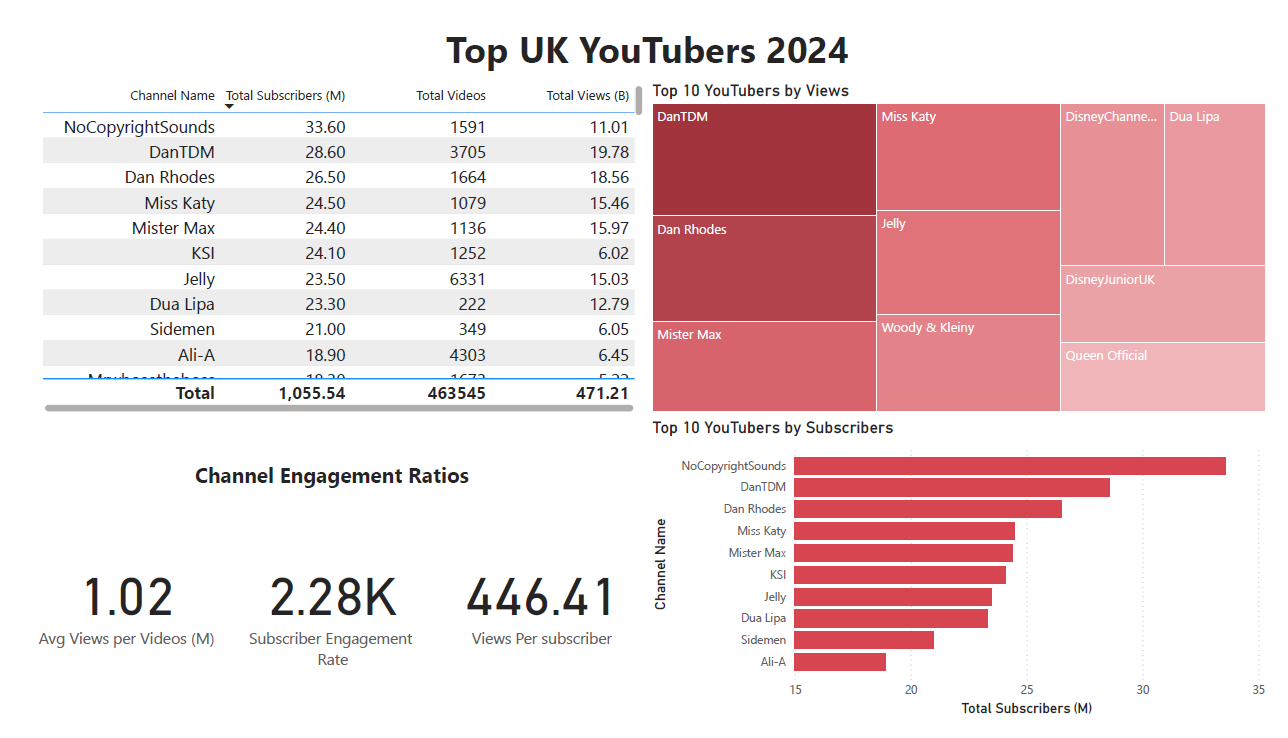

The dashboard page shown, as its layout file describes it:
{"tool":"powerbi","page":{"name":"Page 1","canvas":[1280,720],"ordinal":0},"visuals":[{"type":"textbox","box":[362.8,0,555.6,100.2],"z":0},{"type":"tableEx","fields":{"Values":["view_top_uk_youtubers_2024.channel_name","view_top_uk_youtubers_2024.Total Subscribers (M)","view_top_uk_youtubers_2024.Total Videos","view_top_uk_youtubers_2024.Total Views (B)"]},"box":[15.1,62.4,625.5,345.8],"z":1000},{"type":"treemap","title":"Top 10 YouTubers by Views","fields":{"Group":["view_top_uk_youtubers_2024.channel_name"],"Values":["view_top_uk_youtubers_2024.Total Views (B)"]},"box":[640.6,62.4,638.7,345.8],"z":2000},{"type":"card","fields":{"Values":["view_top_uk_youtubers_2024.Avg Views per Videos (M)"]},"box":[0,472.4,211.7,247.6],"z":3000},{"type":"card","fields":{"Values":["view_top_uk_youtubers_2024.Subscriber Engagement Rate"]},"box":[211.7,472.4,211.7,247.6],"z":4000},{"type":"card","fields":{"Values":["view_top_uk_youtubers_2024.Views Per subscriber"]},"box":[423.3,472.4,217.3,247.6],"z":5000},{"type":"clusteredBarChart","title":"Top 10 YouTubers by Subscribers","fields":{"Category":["view_top_uk_youtubers_2024.channel_name"],"Y":["view_top_uk_youtubers_2024.Total Subscribers (M)"]},"box":[640.6,408.2,638.7,311.8],"z":6000},{"type":"textbox","box":[166.3,447.9,300.5,49.1],"z":7000}]}

Visuals, with their boxes in screenshot pixels (x1, y1, x2, y2), scaled from the page's 1280x720 canvas onto the 1288x738 screenshot:
textbox: (x1=365, y1=0, x2=924, y2=103)
tableEx - view_top_uk_youtubers_2024.channel_name x view_top_uk_youtubers_2024.Total Subscribers (M): (x1=15, y1=64, x2=645, y2=418)
"Top 10 YouTubers by Views" treemap: (x1=645, y1=64, x2=1287, y2=418)
card - view_top_uk_youtubers_2024.Avg Views per Videos (M): (x1=0, y1=484, x2=213, y2=737)
card - view_top_uk_youtubers_2024.Subscriber Engagement Rate: (x1=213, y1=484, x2=426, y2=737)
card - view_top_uk_youtubers_2024.Views Per subscriber: (x1=426, y1=484, x2=645, y2=737)
"Top 10 YouTubers by Subscribers" clusteredBarChart: (x1=645, y1=418, x2=1287, y2=737)
textbox: (x1=167, y1=459, x2=470, y2=509)
